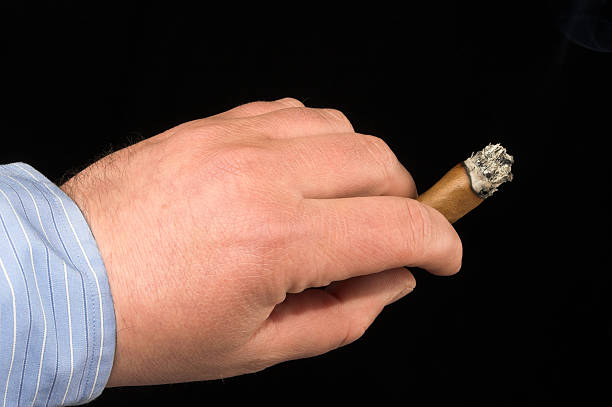cigarette: (413, 141, 513, 223)
